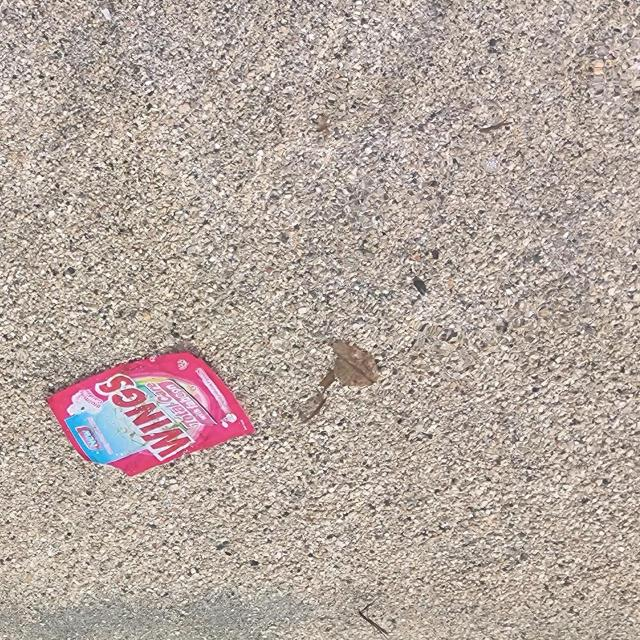plastic_waste: (48, 352, 256, 479)
